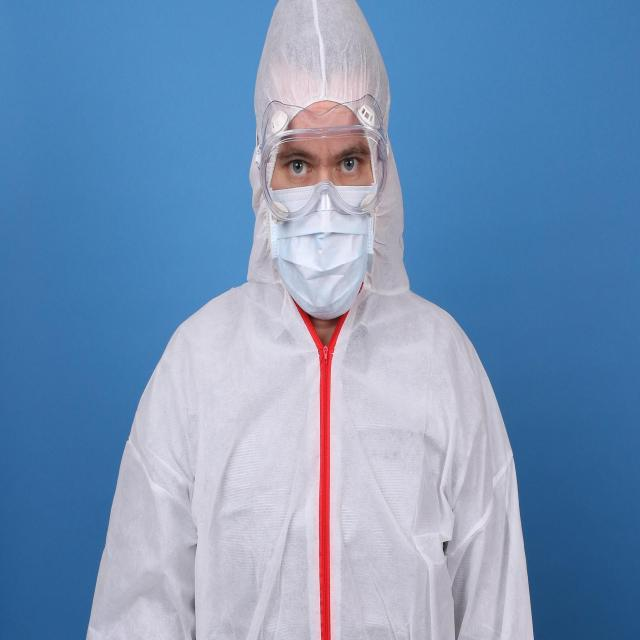Goggles: (258, 98, 390, 216)
Mask: (269, 184, 376, 323)
